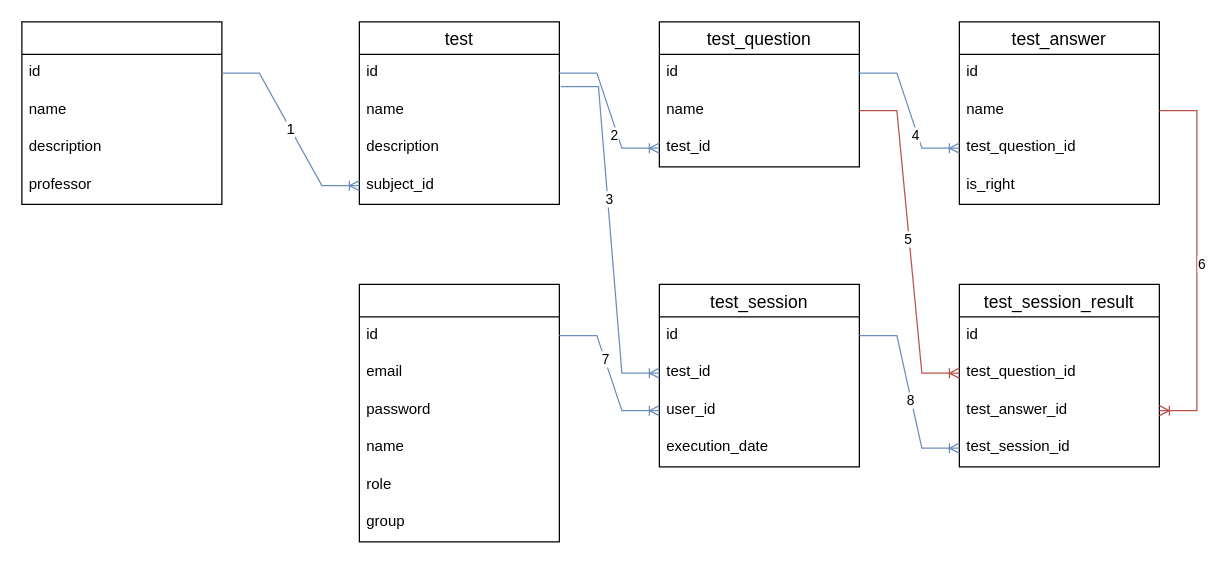
The diagram is 1229 pixels wide and 568 high, and some of its shapes have lost their labels. Here are the shapes that lost their labels. From the top down, the box of each, then its label:
(21, 21, 222, 204): subject
(358, 283, 559, 542): user
